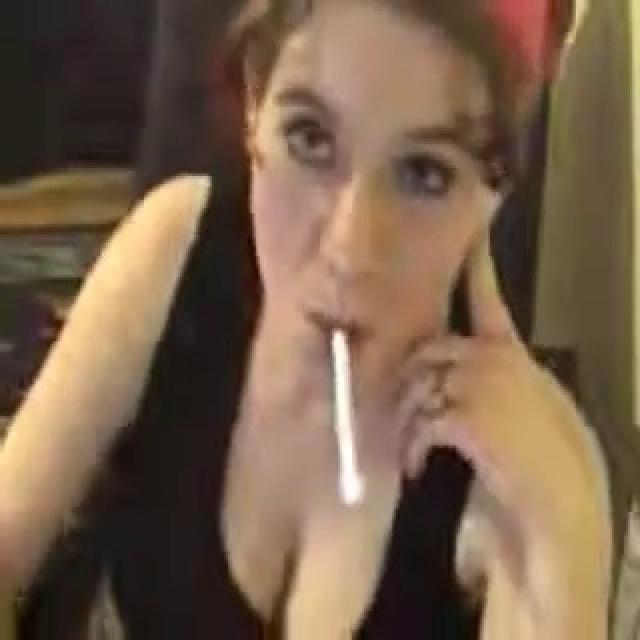Cigarette: (336, 334, 364, 508)
Mouth: (300, 307, 378, 348)
